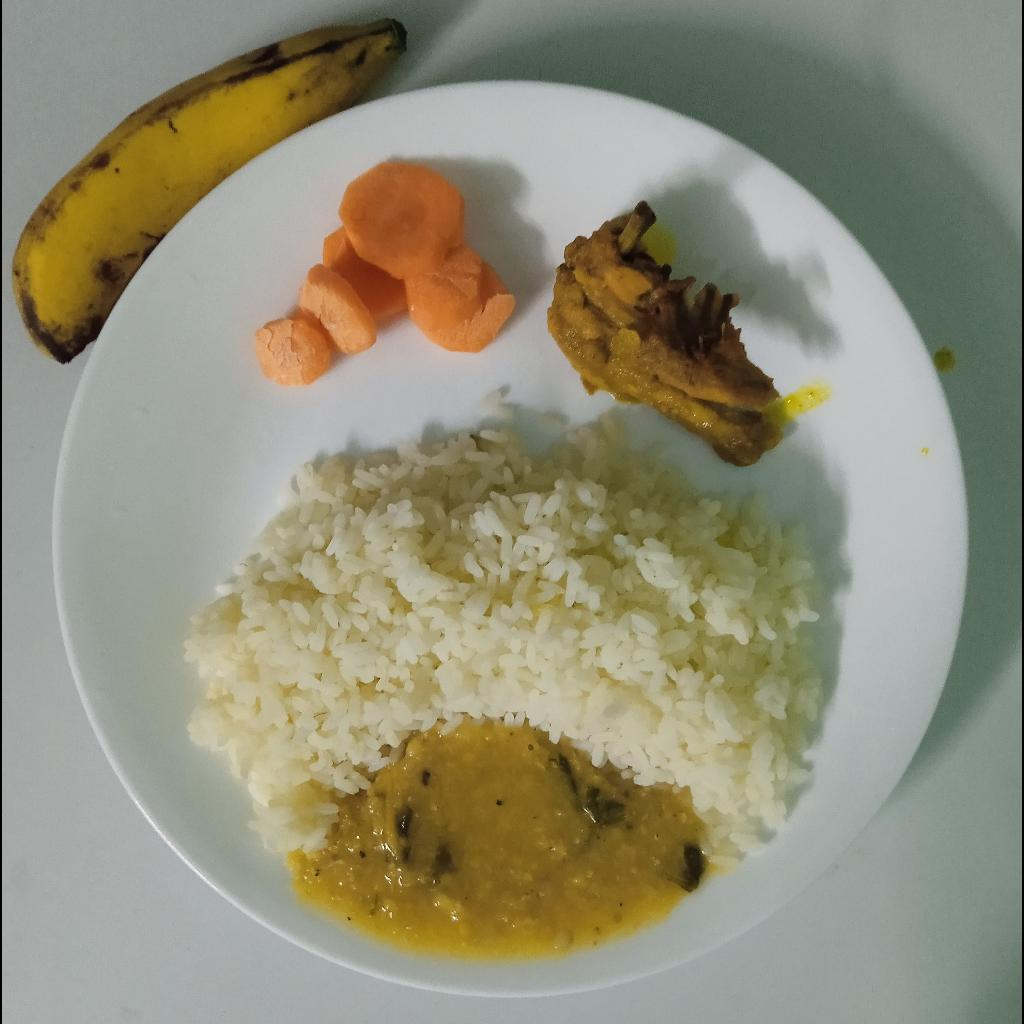banana: (11, 16, 408, 368)
carrot: (254, 160, 518, 386)
chicken: (545, 200, 785, 468)
daal: (283, 725, 706, 956)
rice: (184, 387, 822, 873)
